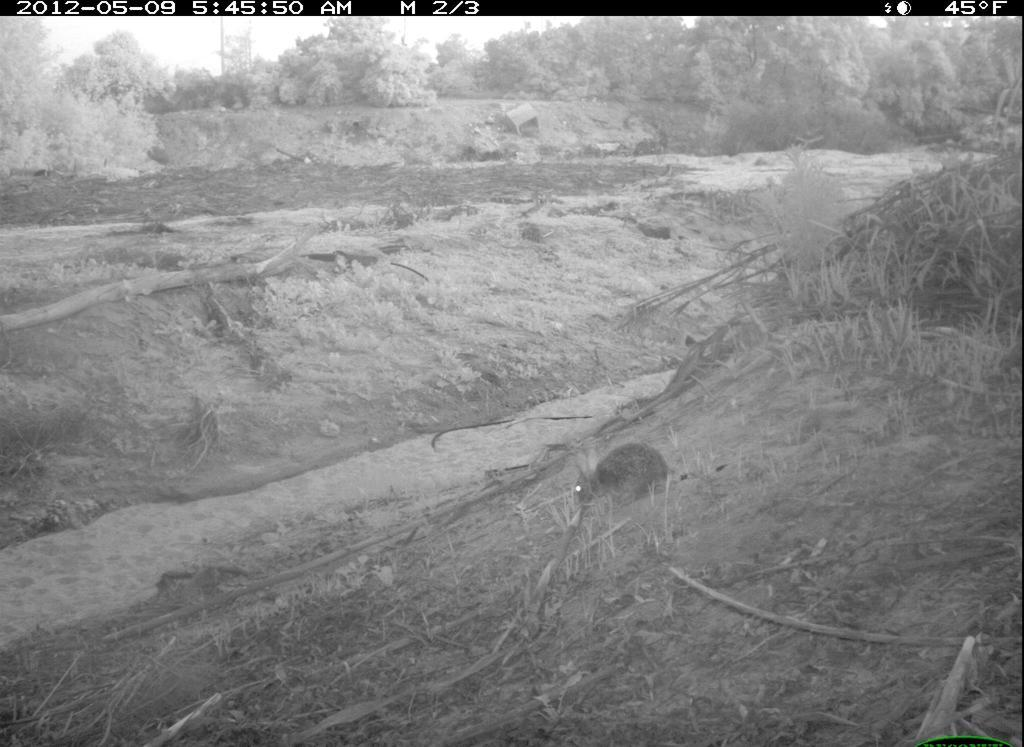rabbit: (573, 442, 680, 520)
